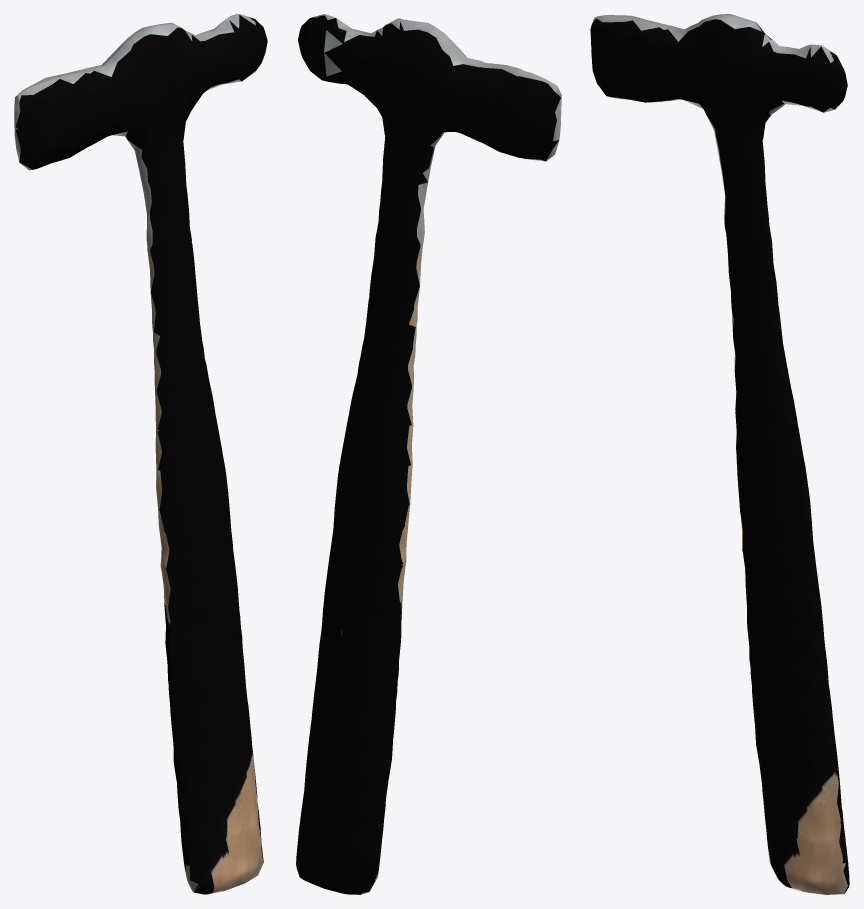
The picture shows the model from 3 angles, left to right: view 1: azimuth 30°, elevation 25°; view 2: azimuth 150°, elevation 25°; view 3: azimuth 330°, elevation 25°; orthographic projection. The views are drawn at different scales.
Visible parts, largest first — view 1: world; view 2: world; view 3: world.
Boxes of the visible parts, x1=… form: world: x1=14, y1=14, x2=267, y2=894; world: x1=296, y1=14, x2=561, y2=894; world: x1=590, y1=14, x2=849, y2=894.
Size of the model in its own units: 0.2953 by 0.9638 by 0.0414.
1 material, 1 textured.
